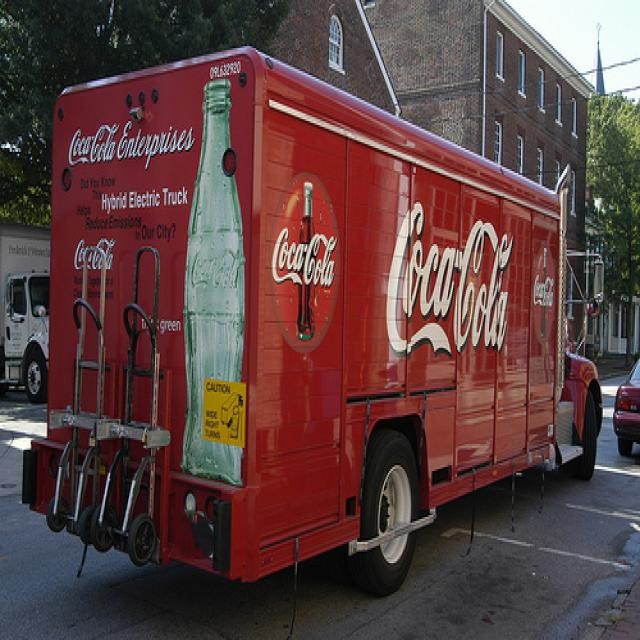truck: (31, 43, 608, 609)
